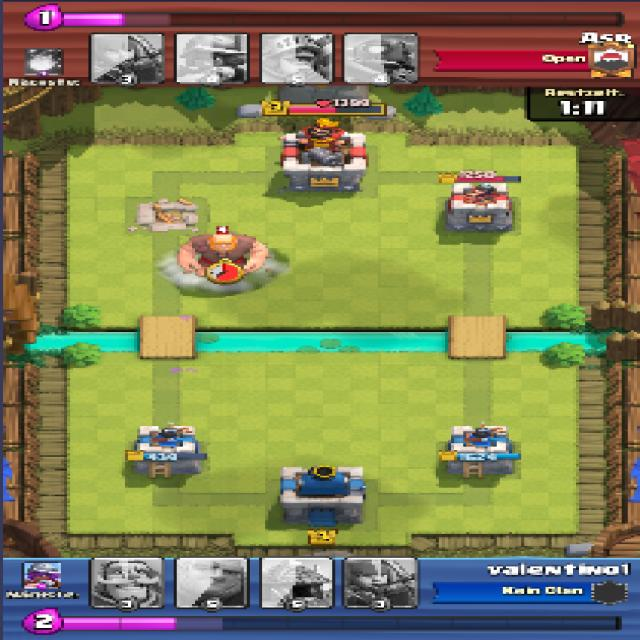Enemy-Giant: (178, 233, 269, 277)
